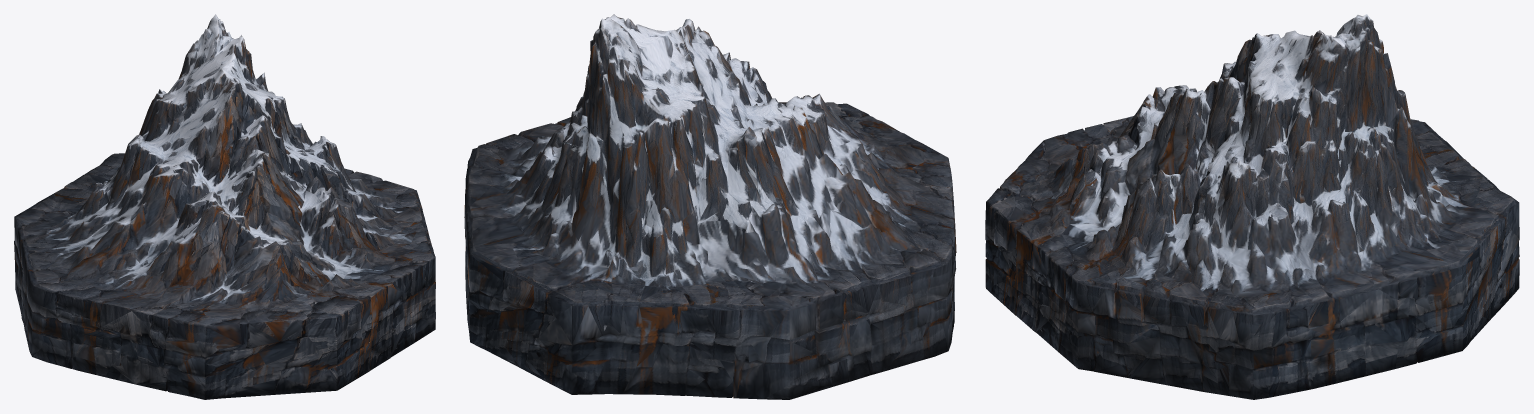
File: mountains.glb
The picture shows the model from 3 angles, left to right: view 1: azimuth 30°, elevation 25°; view 2: azimuth 150°, elevation 25°; view 3: azimuth 270°, elevation 25°; orthographic projection. The views are drawn at different scales.
Visible parts, largest first — view 1: Mesh_0; view 2: Mesh_0; view 3: Mesh_0.
Part boxes in pixels (box(x1,y1,x2,y2)): Mesh_0: box(14, 14, 435, 399); Mesh_0: box(464, 14, 956, 399); Mesh_0: box(985, 14, 1519, 399).
Size of the model in its own units: 1.89 by 1.17 by 1.9.
1 material, 1 textured.
